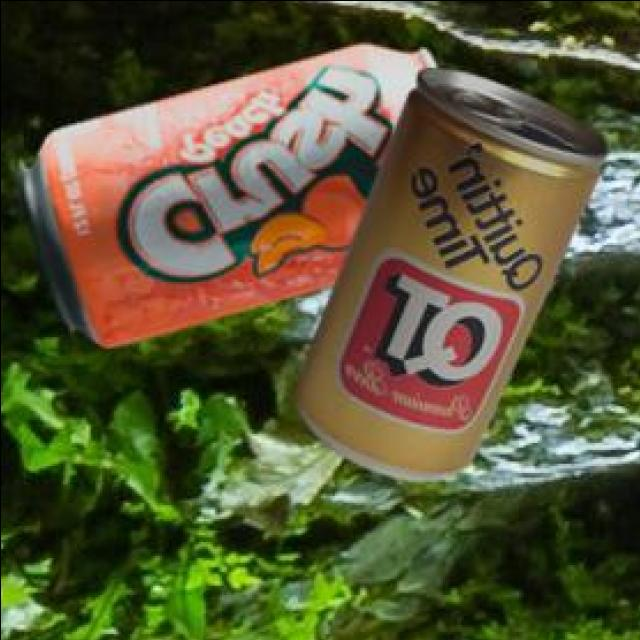logam: (291, 70, 604, 482), (13, 47, 432, 349)
